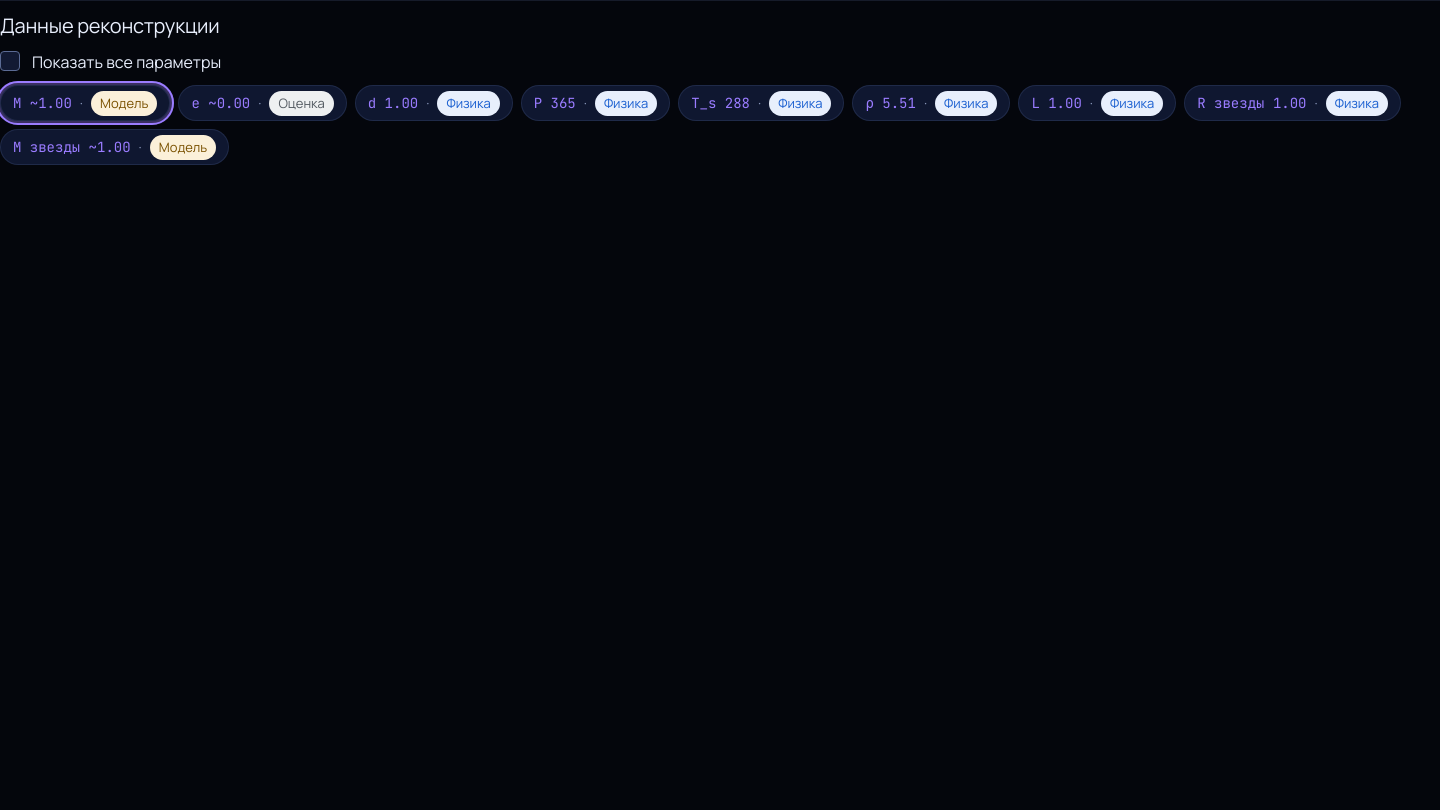
it: ReconstructionPanel › клик по чипу открывает формулу и входные данные, Esc закрывает и возвращает фокус
The width and height of the screenshot is (1440, 810).
Click the button "M ~1.00 · Модель" at [85, 103], box [0, 85, 170, 121]
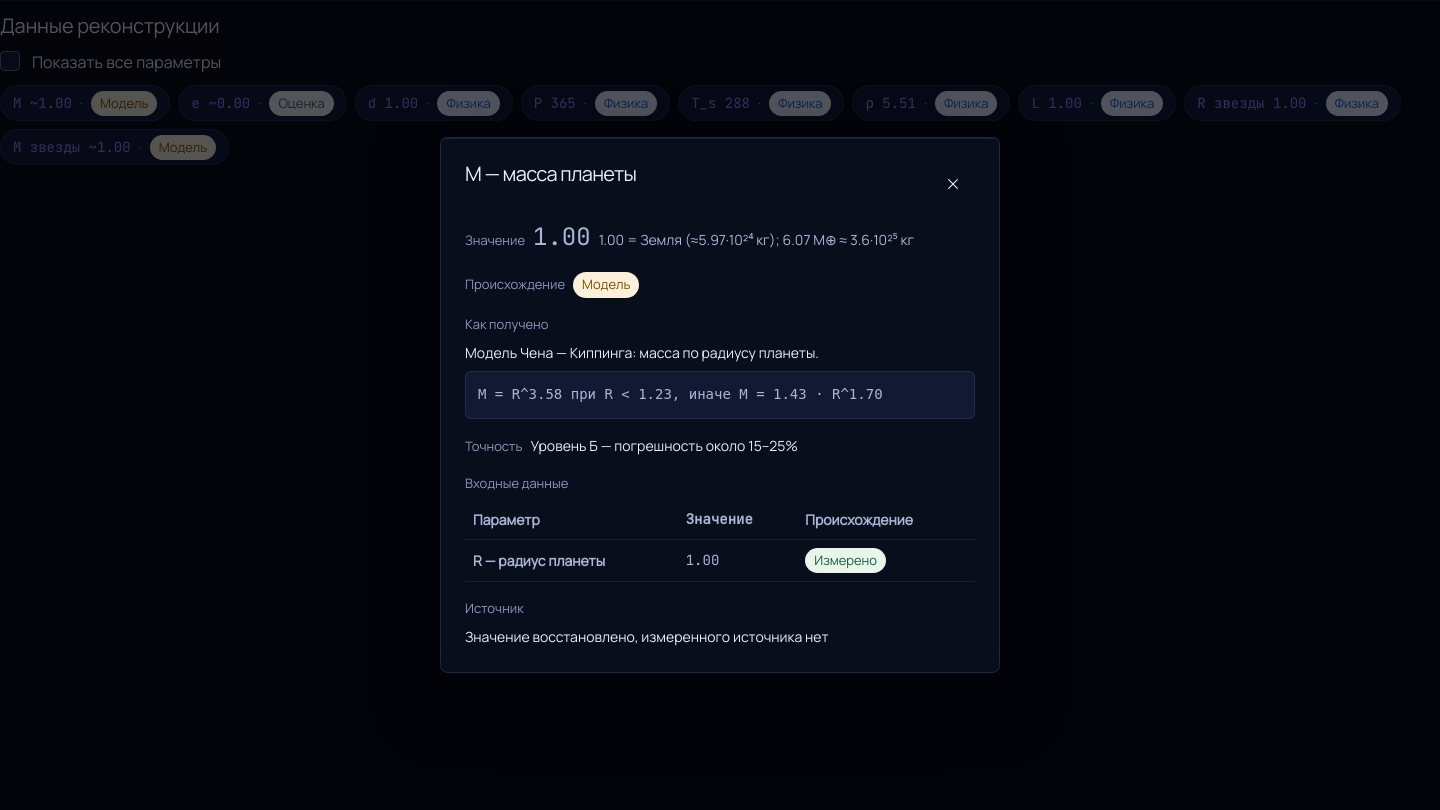
Now the dialog shows "R^3.58", box [478, 386, 883, 402]
Now the dialog shows "Входные данные", box [465, 474, 568, 492]
Now the dialog shows "Уровень Б — погрешность около 15–25%", box [530, 436, 798, 455]
Press Escape
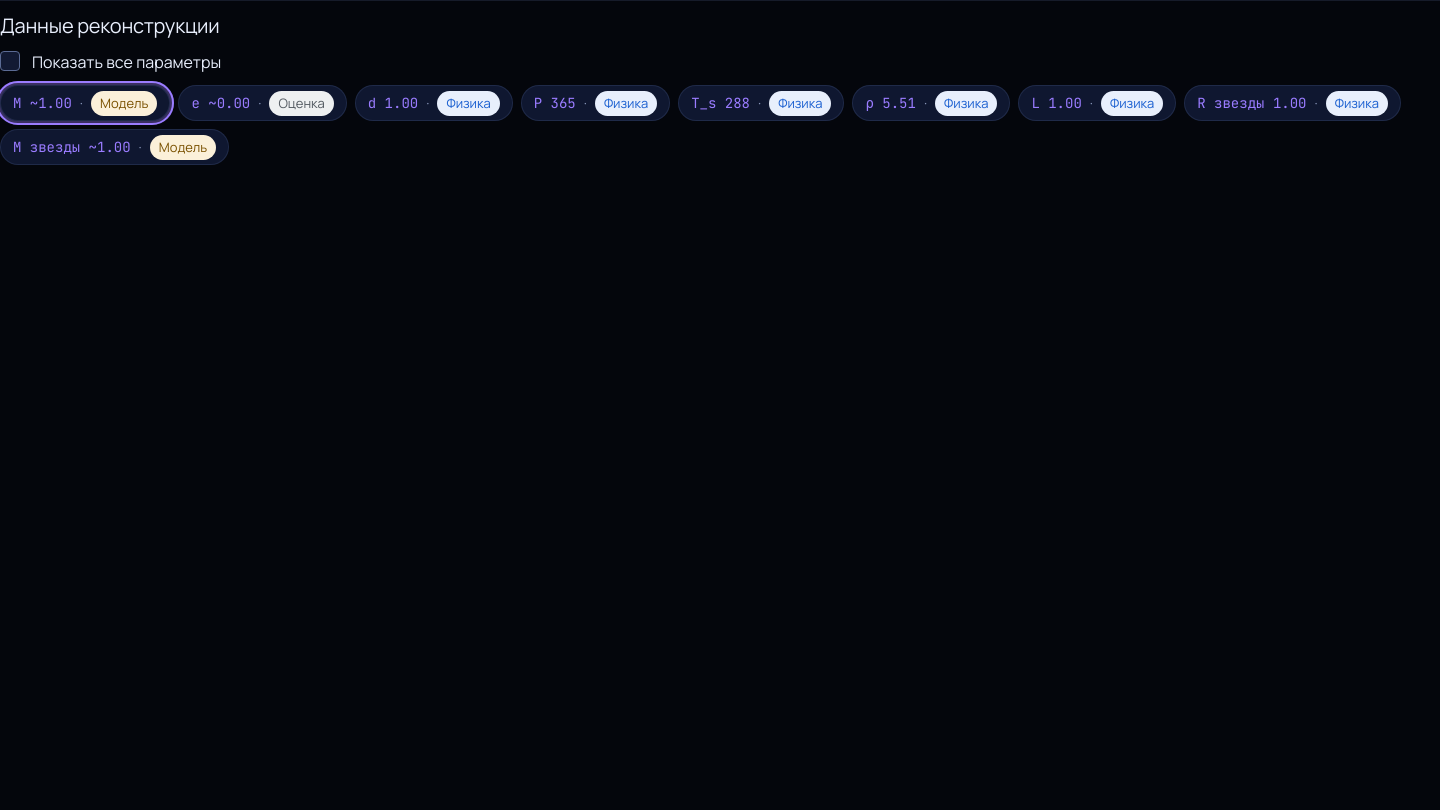
Now the dialog is gone
